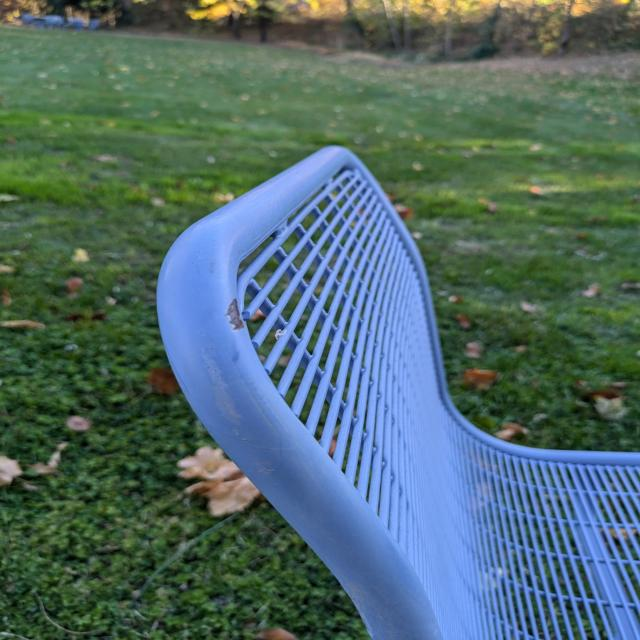Filiform Corrosion: (227, 300, 245, 331)
